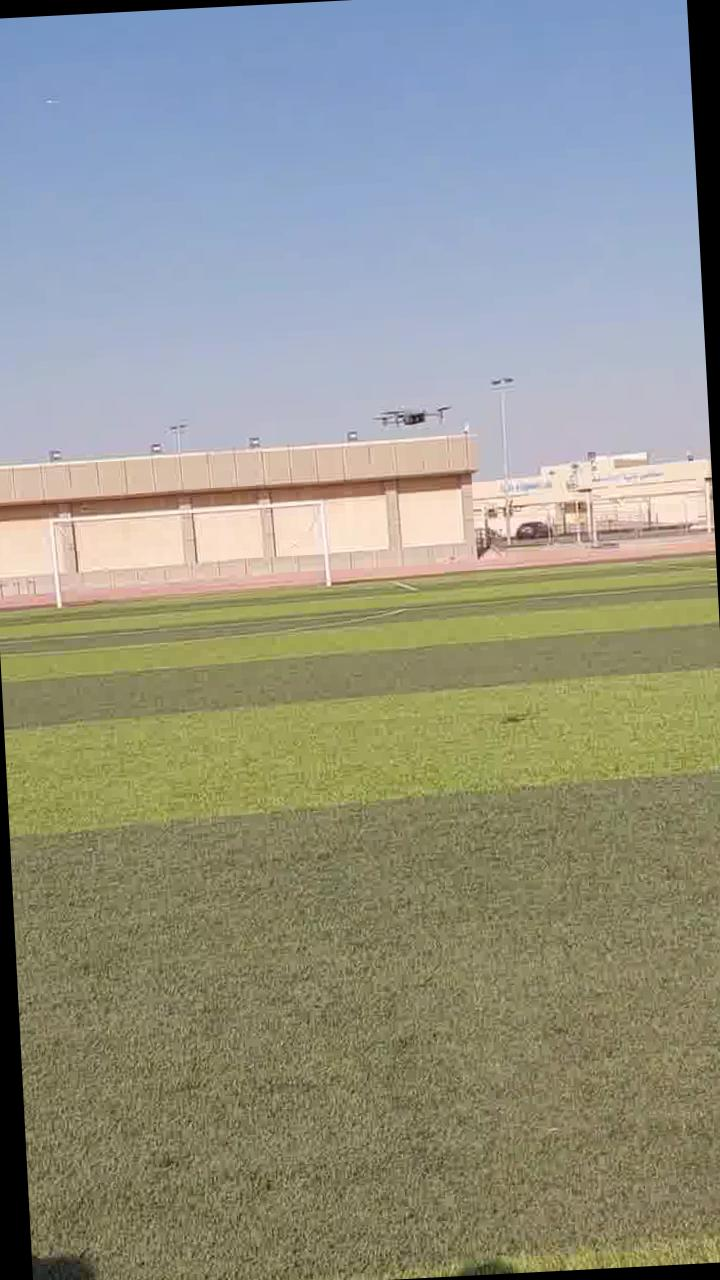drone: (368, 390, 466, 449)
